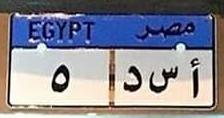5: (48, 63, 74, 96)
alif: (189, 58, 202, 101)
daal: (121, 62, 143, 94)
seen: (148, 63, 179, 98)
